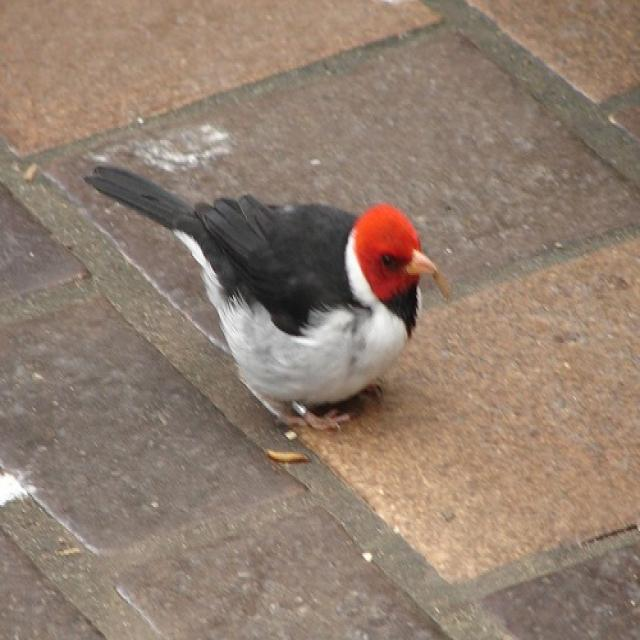bird: (82, 154, 454, 434)
